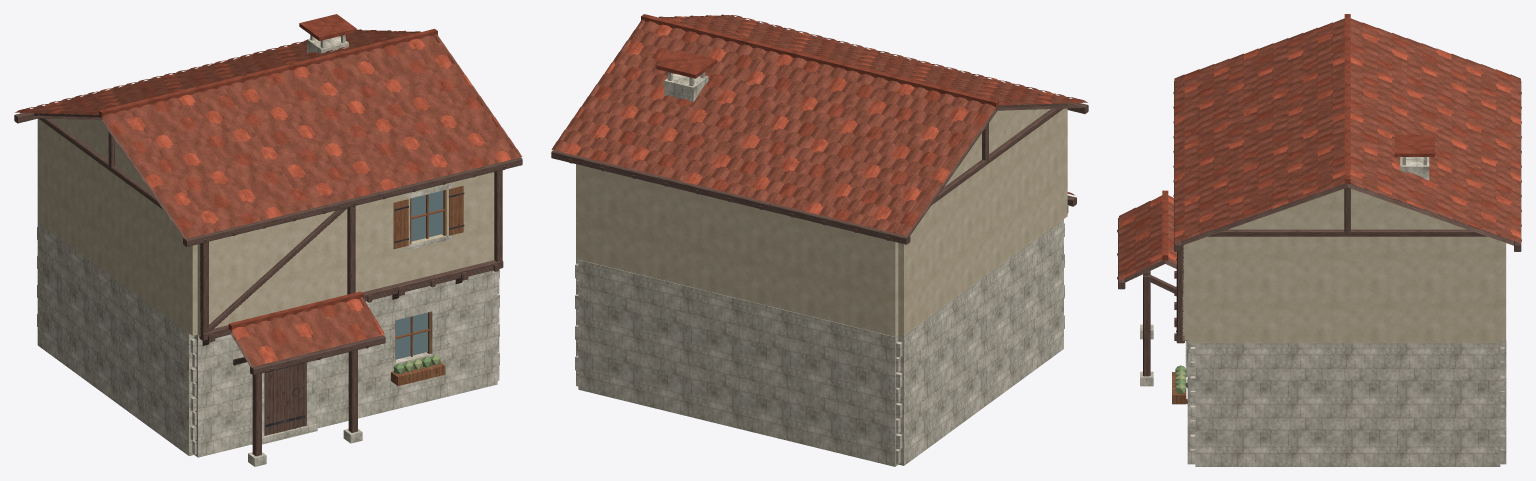
The model's file is B12_vivienda.glb.
The picture shows the model from 3 angles, left to right: view 1: azimuth 30°, elevation 25°; view 2: azimuth 150°, elevation 25°; view 3: azimuth 270°, elevation 25°; orthographic projection. The views are drawn at different scales.
Parts seen in each view (by area): view 1: AUR034_B12_clay_tiles, AUR034_B12_lower_masonry, AUR034_B12_upper_plaster, AUR034_B12_porch_clay_tiles, AUR034_B12_fascia-1, AUR034_B12_entry_leaf0, AUR034_B12_ridge, AUR034_B12_gable-1, AUR034_B12_sill, AUR034_B12_window1_glazing, AUR034_B12_porch_fascia-1, AUR034_B12_brace0 (+15 smaller); view 2: AUR034_B12_lower_masonry, AUR034_B12_clay_tiles, AUR034_B12_upper_plaster, AUR034_B12_fascia1, AUR034_B12_ridge, AUR034_B12_gable-1, AUR034_B12_gable_tie-1, AUR034_B12_dressed_corner_stones, AUR034_B12_cowl, AUR034_B12_chimney, AUR034_B12_roof_sheathing; view 3: AUR034_B12_clay_tiles, AUR034_B12_lower_masonry, AUR034_B12_upper_plaster, AUR034_B12_gable1, AUR034_B12_porch_clay_tiles, AUR034_B12_gable_tie1, AUR034_B12_roof_sheathing, AUR034_B12_dressed_corner_stones, AUR034_B12_ridge, AUR034_B12_cowl, AUR034_B12_porch_post1, AUR034_B12_post2 (+2 smaller).
Boxes of the visible parts, x1,y1,x2,y2 form: AUR034_B12_clay_tiles: [15, 29, 521, 238]; AUR034_B12_lower_masonry: [37, 223, 499, 457]; AUR034_B12_upper_plaster: [37, 118, 494, 336]; AUR034_B12_porch_clay_tiles: [225, 297, 384, 366]; AUR034_B12_fascia-1: [183, 157, 522, 246]; AUR034_B12_entry_leaf0: [264, 362, 305, 435]; AUR034_B12_ridge: [99, 28, 437, 117]; AUR034_B12_gable-1: [50, 118, 150, 191]; AUR034_B12_sill: [199, 260, 503, 340]; AUR034_B12_window1_glazing: [411, 190, 443, 241]; AUR034_B12_porch_fascia-1: [250, 335, 385, 375]; AUR034_B12_brace0: [209, 207, 347, 331]; AUR034_B12_lower_masonry: [576, 219, 1063, 466]; AUR034_B12_clay_tiles: [551, 14, 1087, 236]; AUR034_B12_upper_plaster: [576, 108, 1067, 336]; AUR034_B12_fascia1: [551, 150, 910, 244]; AUR034_B12_ridge: [641, 14, 998, 108]; AUR034_B12_gable-1: [944, 109, 1050, 186]; AUR034_B12_gable_tie-1: [931, 103, 1067, 205]; AUR034_B12_dressed_corner_stones: [575, 223, 1064, 464]; AUR034_B12_cowl: [656, 50, 716, 78]; AUR034_B12_chimney: [664, 73, 708, 102]; AUR034_B12_roof_sheathing: [907, 104, 1083, 235]; AUR034_B12_clay_tiles: [1174, 18, 1520, 243]; AUR034_B12_lower_masonry: [1187, 243, 1506, 466]; AUR034_B12_upper_plaster: [1182, 237, 1505, 343]; AUR034_B12_gable1: [1205, 189, 1489, 237]; AUR034_B12_porch_clay_tiles: [1119, 195, 1176, 280]; AUR034_B12_gable_tie1: [1195, 229, 1499, 236]; AUR034_B12_roof_sheathing: [1181, 184, 1513, 245]; AUR034_B12_dressed_corner_stones: [1190, 347, 1504, 462]; AUR034_B12_ridge: [1344, 14, 1350, 183]; AUR034_B12_cowl: [1394, 135, 1434, 156]; AUR034_B12_porch_post1: [1143, 275, 1150, 376]; AUR034_B12_post2: [1177, 245, 1183, 339].
Size of the model in its own units: 8.96 by 7.49 by 9.29.
12 materials, 8 textured.
